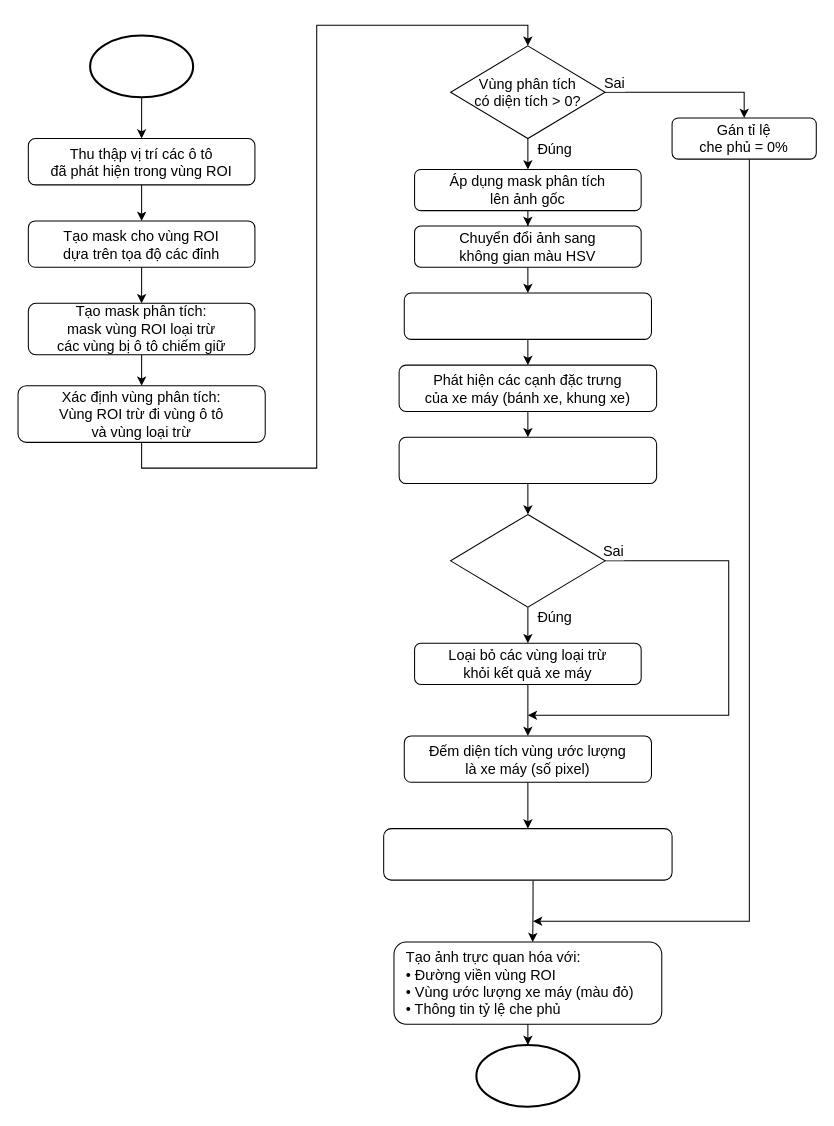
Some shapes in this 834 by 1126 pixel diagram are drawn without their labels. Each missing label, with the centre of its shape:
"Bắt đầu" belongs at point (141, 66).
"Có vùng loại trừ từ cấu hình?" belongs at point (527, 560).
"Kết hợp kết quả phát hiện màu và kết quả phát hiện cạnh" belongs at point (527, 460).
"Kết Thúc" belongs at point (527, 1075).
"Phát hiện các vùng có màu sắc đặc trưng của xe máy" belongs at point (527, 315).
"Tính tỷ lệ che phủ: (Diện tích xe máy / Diện tích ROI) × 100%" belongs at point (527, 854).
